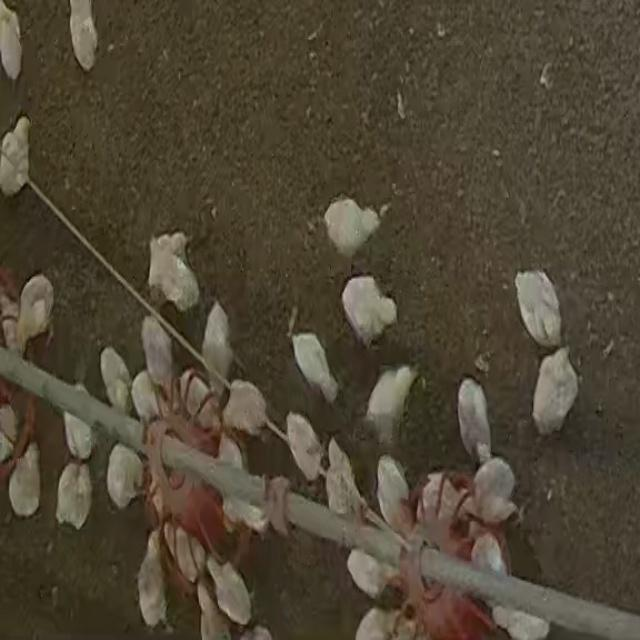chicken: (363, 364, 419, 447), (146, 229, 200, 314), (340, 272, 398, 346), (531, 347, 577, 435), (514, 270, 560, 350), (290, 331, 339, 406), (203, 553, 250, 625), (470, 455, 518, 521), (221, 378, 271, 441), (416, 474, 470, 532), (464, 514, 510, 582), (16, 274, 55, 354), (325, 437, 361, 523), (456, 377, 492, 462), (136, 534, 168, 629), (215, 435, 247, 530), (325, 199, 377, 255), (104, 442, 145, 512), (285, 411, 324, 483), (375, 455, 410, 534), (200, 300, 232, 386), (160, 522, 206, 581), (490, 597, 552, 640), (54, 460, 92, 529), (178, 369, 220, 431), (0, 115, 31, 197), (141, 316, 175, 390), (8, 444, 41, 517), (100, 346, 134, 415), (193, 579, 231, 640), (67, 1, 99, 70), (60, 399, 94, 462), (346, 549, 386, 600), (1, 3, 23, 81), (131, 369, 161, 423), (355, 607, 392, 639)
